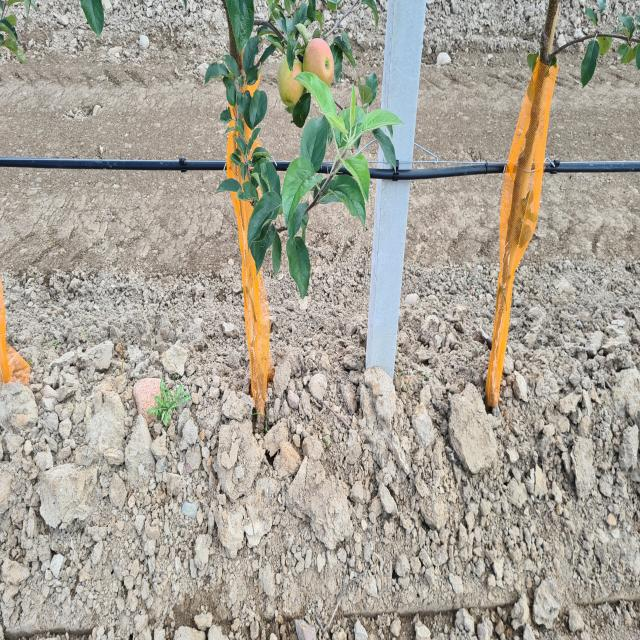Apple: (302, 38, 334, 87), (278, 56, 304, 109)
